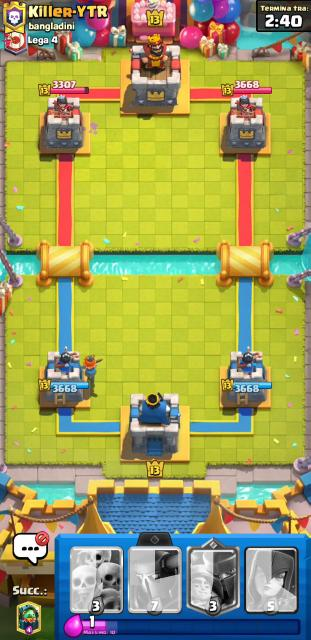ally_melee: (82, 353, 103, 383)
